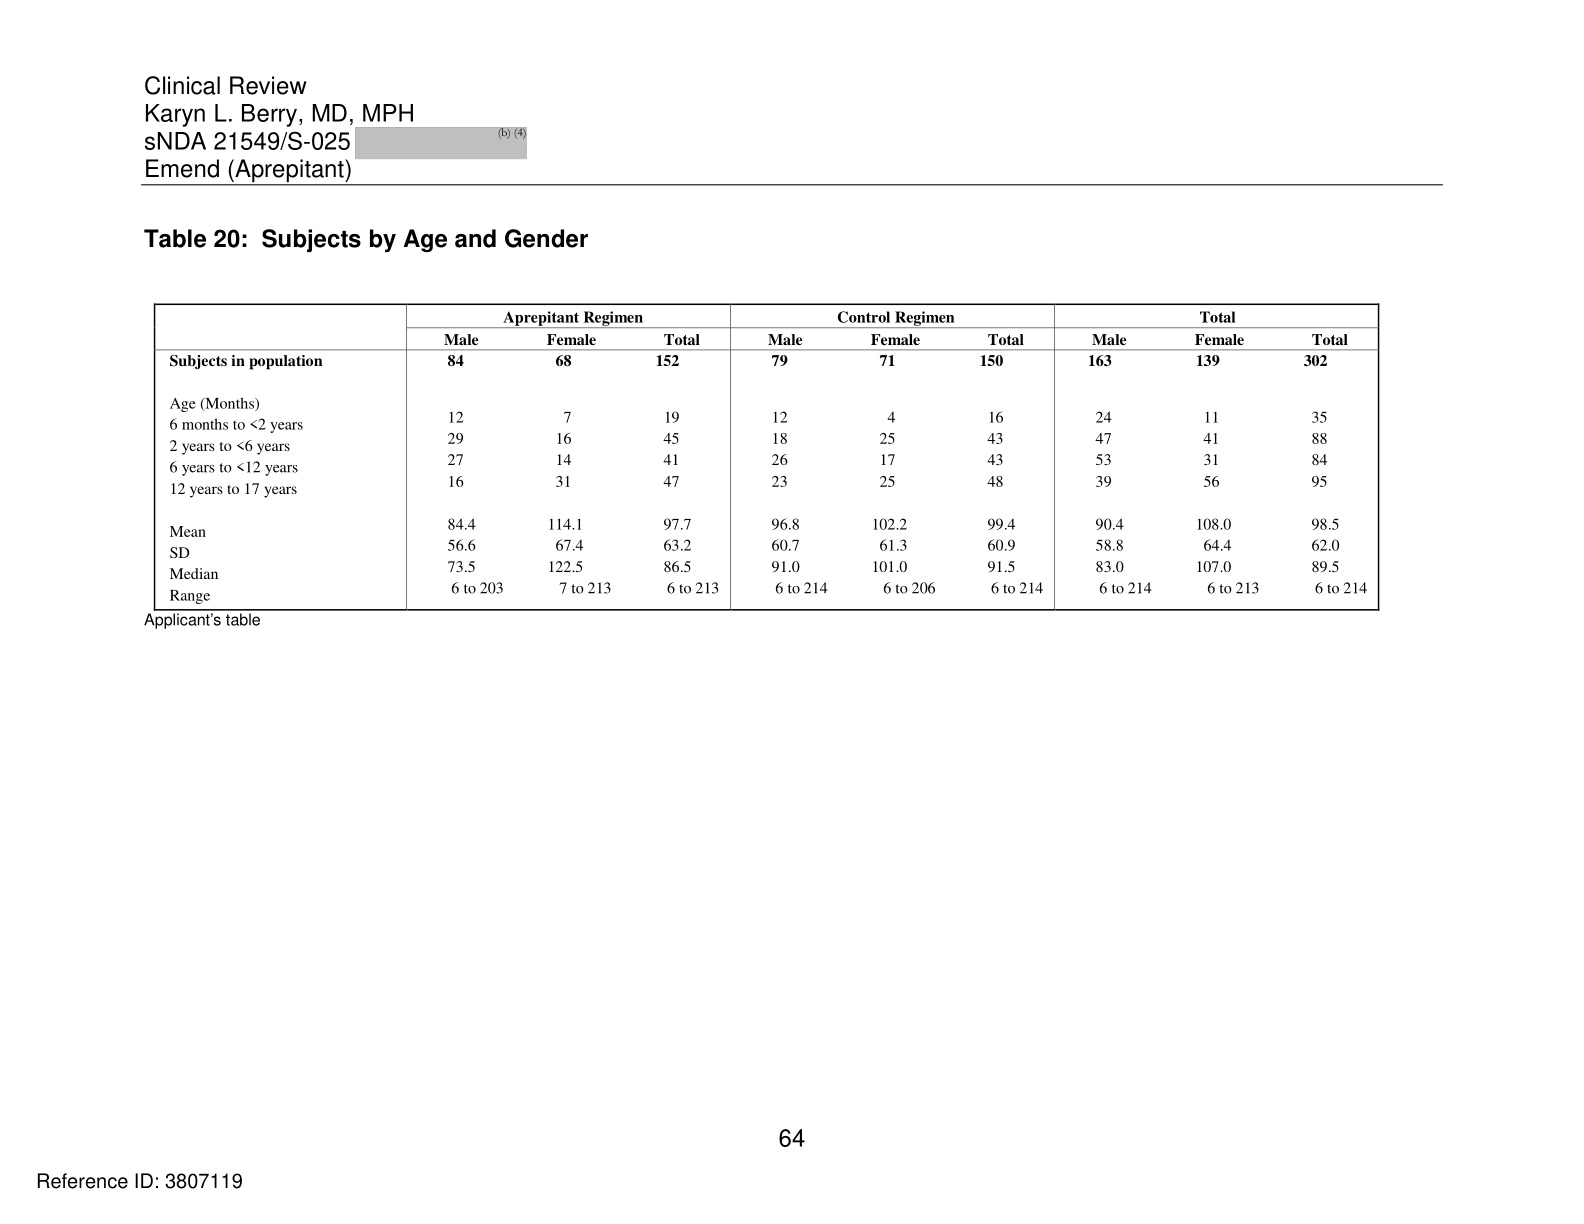partial_lined_merged_cells: (152, 301, 1382, 613)
